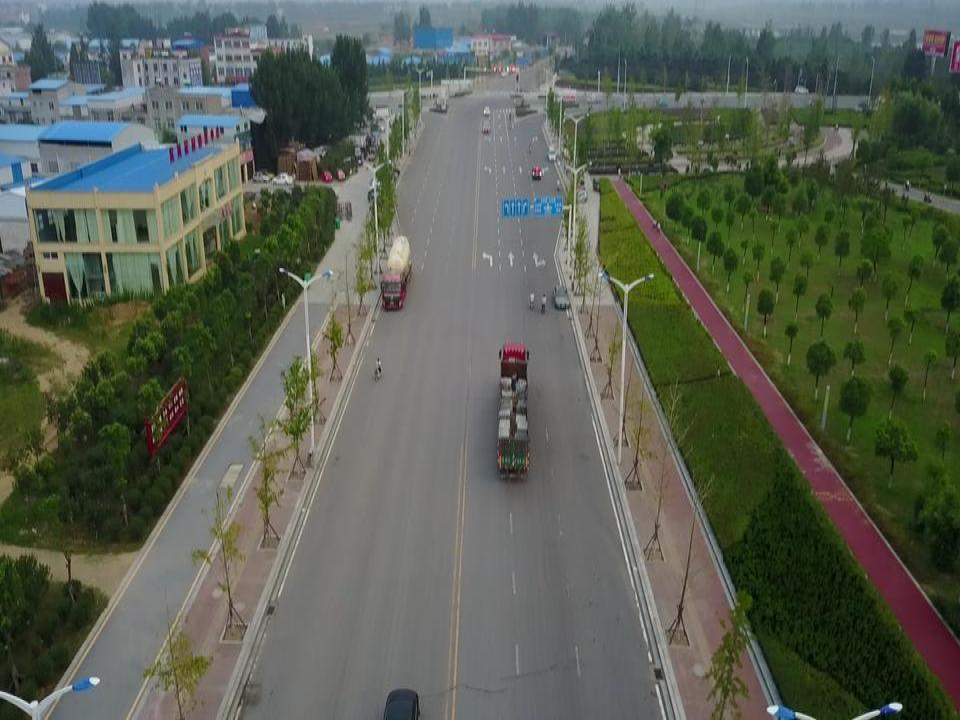car: (380, 684, 428, 720), (551, 281, 575, 311), (529, 162, 545, 182), (481, 104, 493, 116)
truck: (493, 341, 533, 483), (381, 233, 412, 312), (481, 117, 492, 136)
van: (573, 187, 591, 208), (546, 140, 558, 163)
